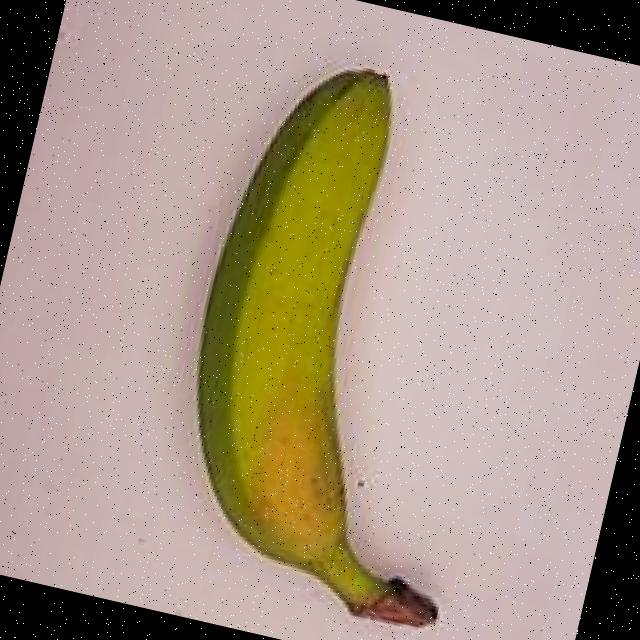Unripe: (92, 23, 583, 640)
